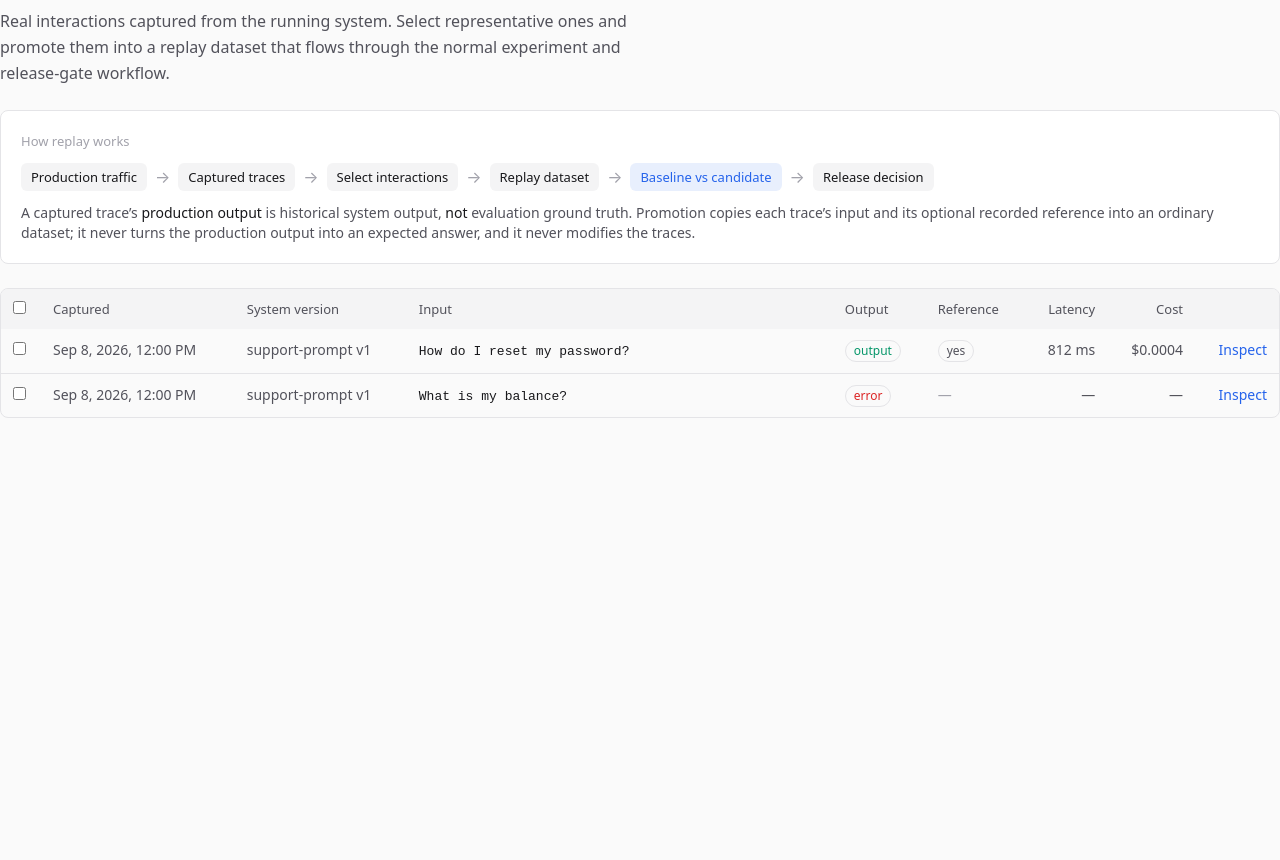
ProductionTracesPage › inspects a trace and shows provenance with production output marked as not ground truth
Check: the text "How do I reset my password?" is shown, box [419,344,629,359]
Step 1. Click the button "Inspect" in the row of "How do I reset my password?" → (1243, 350), box [1219,340,1267,360]
(page scrolled)
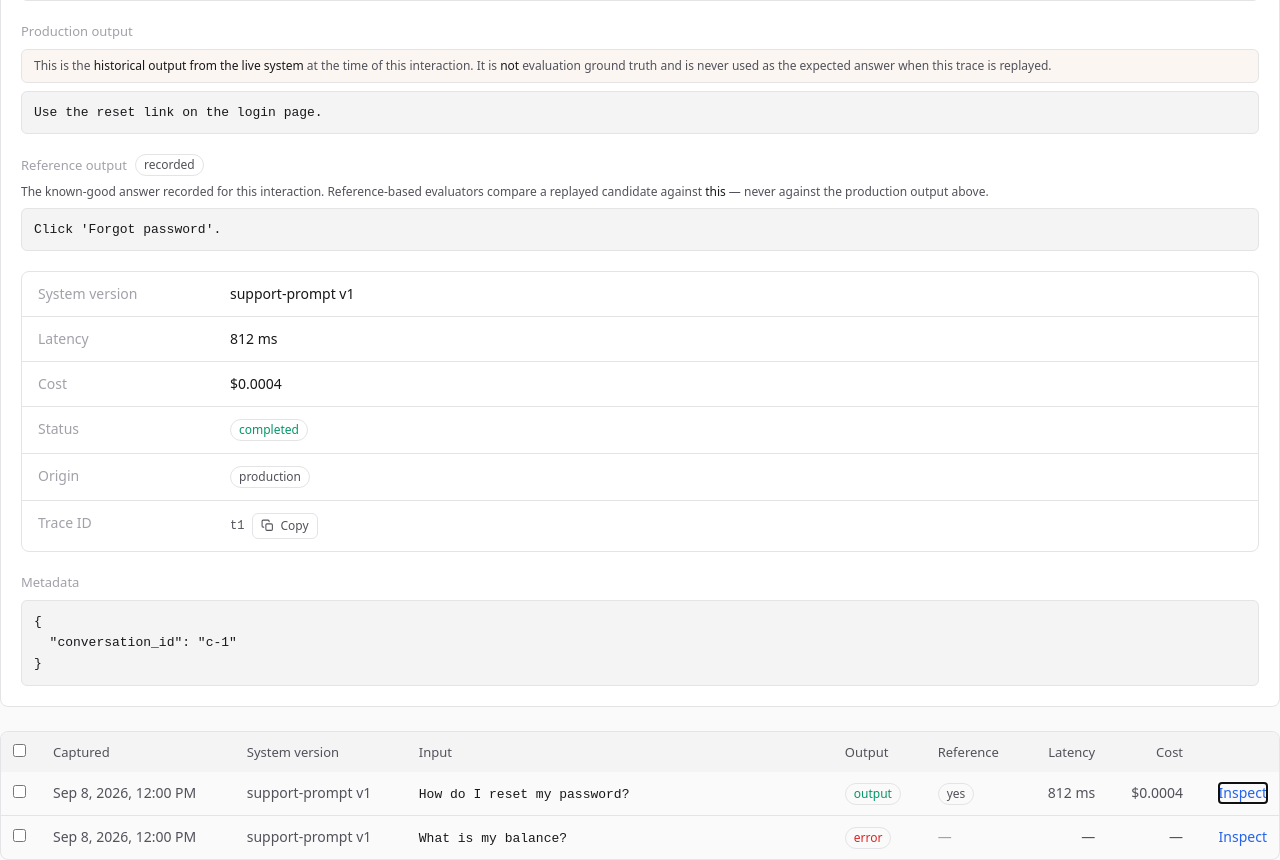
Check: the text "t1" is shown, box [230,518,244,534]
Check: the element named "Trace detail" shows "Production output", box [21,22,133,40]
Check: the text "Use the reset link on the login page." is shown, box [34,105,323,120]
